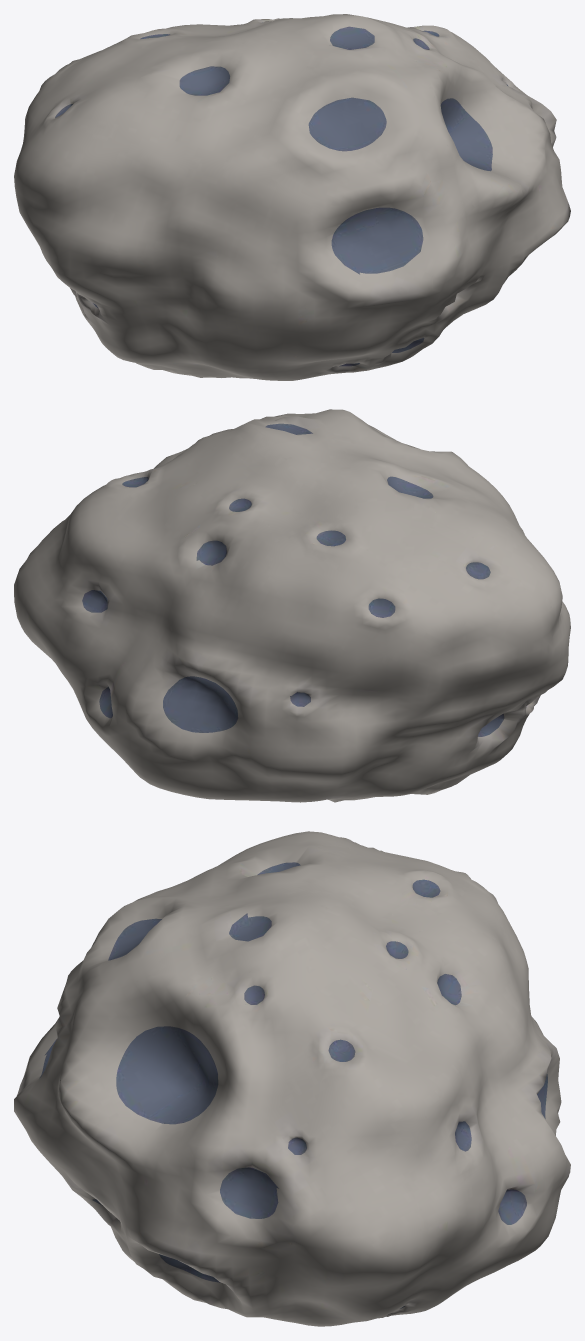
Rendered from asteroide.glb.
3 views of the same model, one above another, from view 1: azimuth 30°, elevation 25°; view 2: azimuth 150°, elevation 25°; view 3: azimuth 270°, elevation 25° (orthographic). The views are drawn at different scales.
Visible parts, largest first — view 1: asteroid_body; view 2: asteroid_body; view 3: asteroid_body.
Part boxes in pixels (bbox=[...]): asteroid_body: bbox=[14, 14, 570, 380]; asteroid_body: bbox=[14, 409, 570, 802]; asteroid_body: bbox=[14, 831, 570, 1326].
Bounding box in the file's own units: 1.66 × 0.9678 × 1.33.
Materials: 1 (1 with a texture image).
